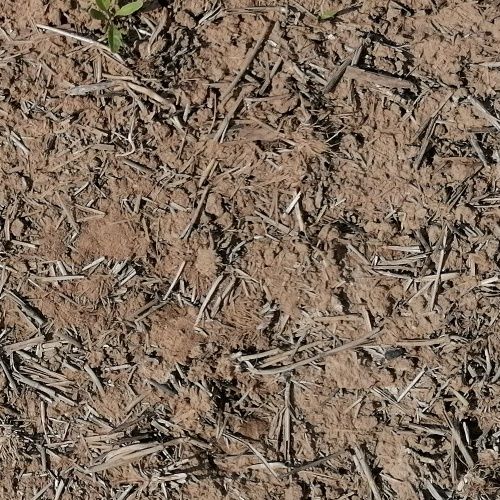beet: (89, 0, 145, 50)
